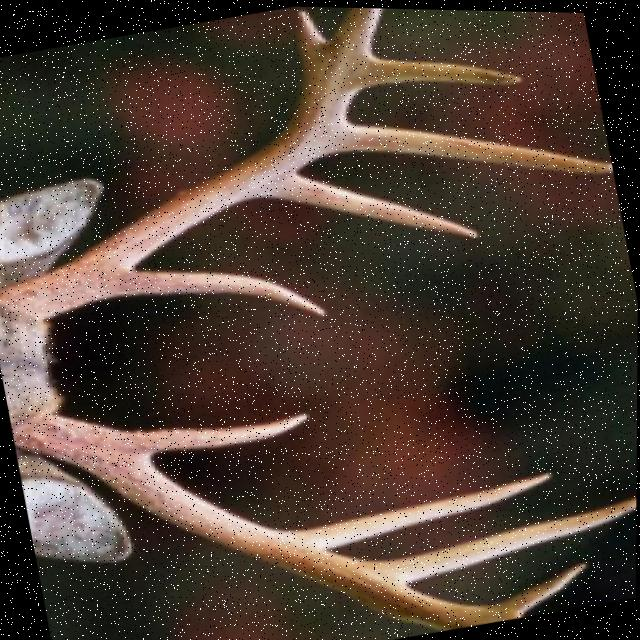L-F: (13, 411, 527, 629)
L-G1: (132, 408, 313, 452)
L-G2: (280, 467, 559, 547)
L-G3: (369, 490, 637, 582)
L-G4: (486, 556, 592, 612)
R-F: (0, 6, 386, 319)
R-G1: (102, 267, 331, 314)
R-G2: (251, 169, 485, 236)
R-G3: (324, 117, 614, 171)
R-G4: (360, 52, 526, 88)
R-G5: (297, 5, 331, 63)
